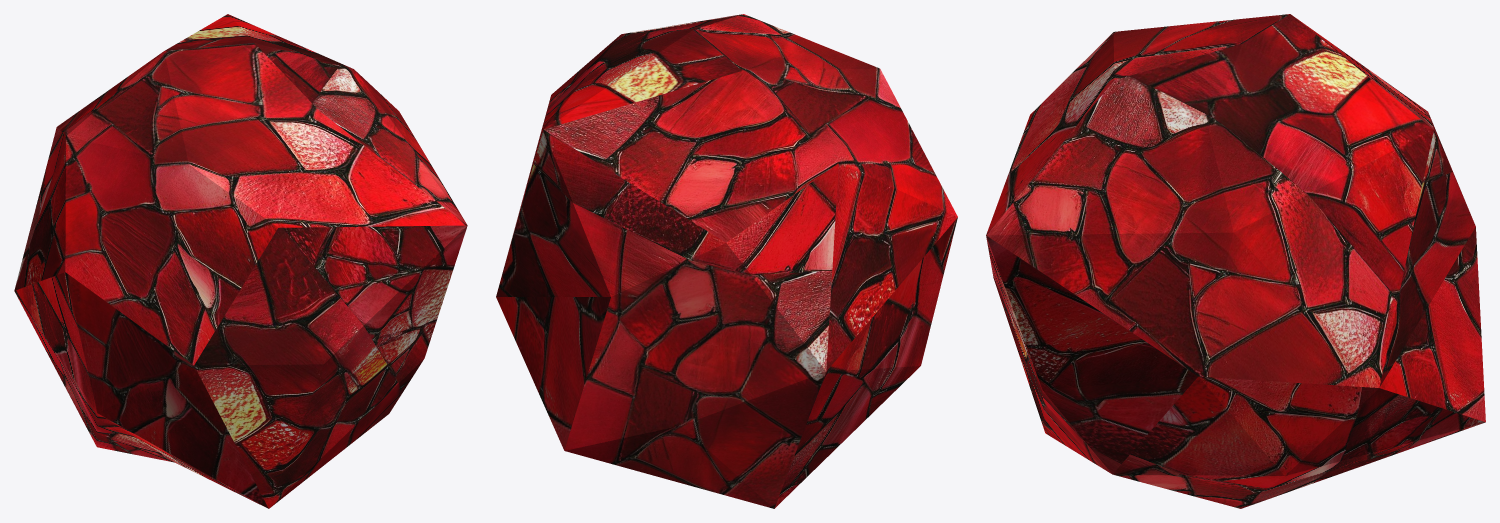
File: star2RedCompressed.glb
The picture shows the model from 3 angles, left to right: view 1: azimuth 30°, elevation 25°; view 2: azimuth 150°, elevation 25°; view 3: azimuth 270°, elevation 25°; orthographic projection. The views are drawn at different scales.
Visible parts, largest first — view 1: star2; view 2: star2; view 3: star2.
Boxes of the visible parts, x1=… form: star2: x1=14, y1=14, x2=467, y2=508; star2: x1=496, y1=14, x2=957, y2=508; star2: x1=986, y1=14, x2=1485, y2=508.
Size of the model in its own units: 1 by 1 by 1.
Materials: 1 (1 with a texture image).
